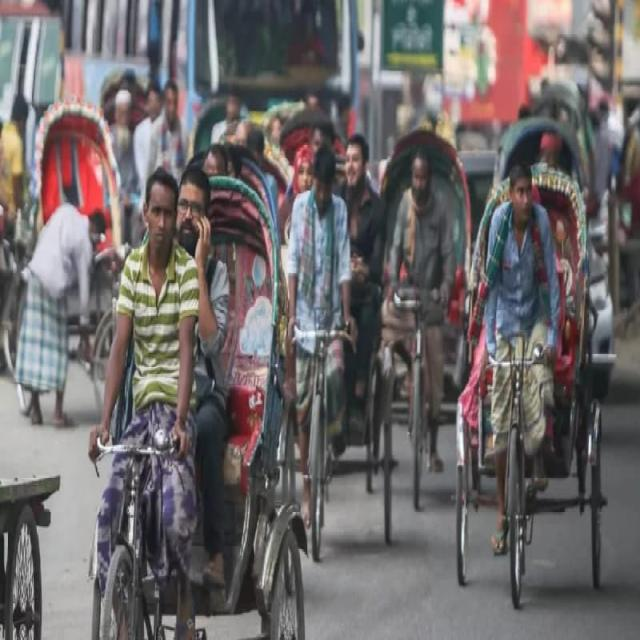Rickshaw: (103, 173, 308, 640), (451, 151, 607, 613)
